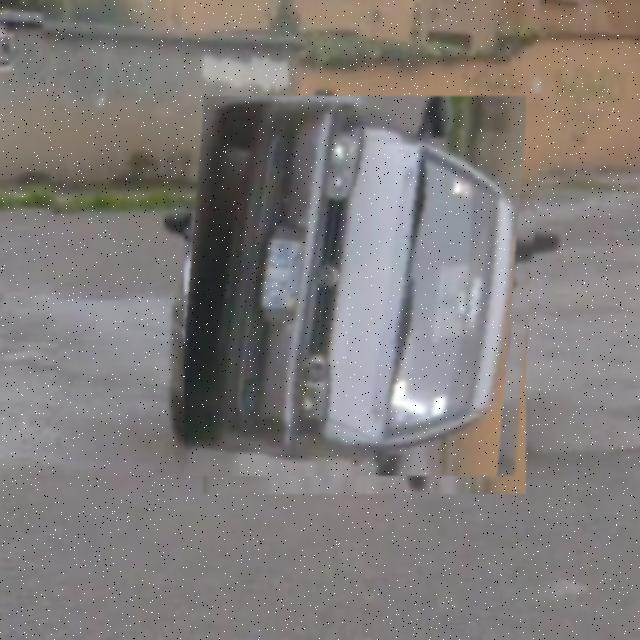car: (185, 115, 545, 477)
